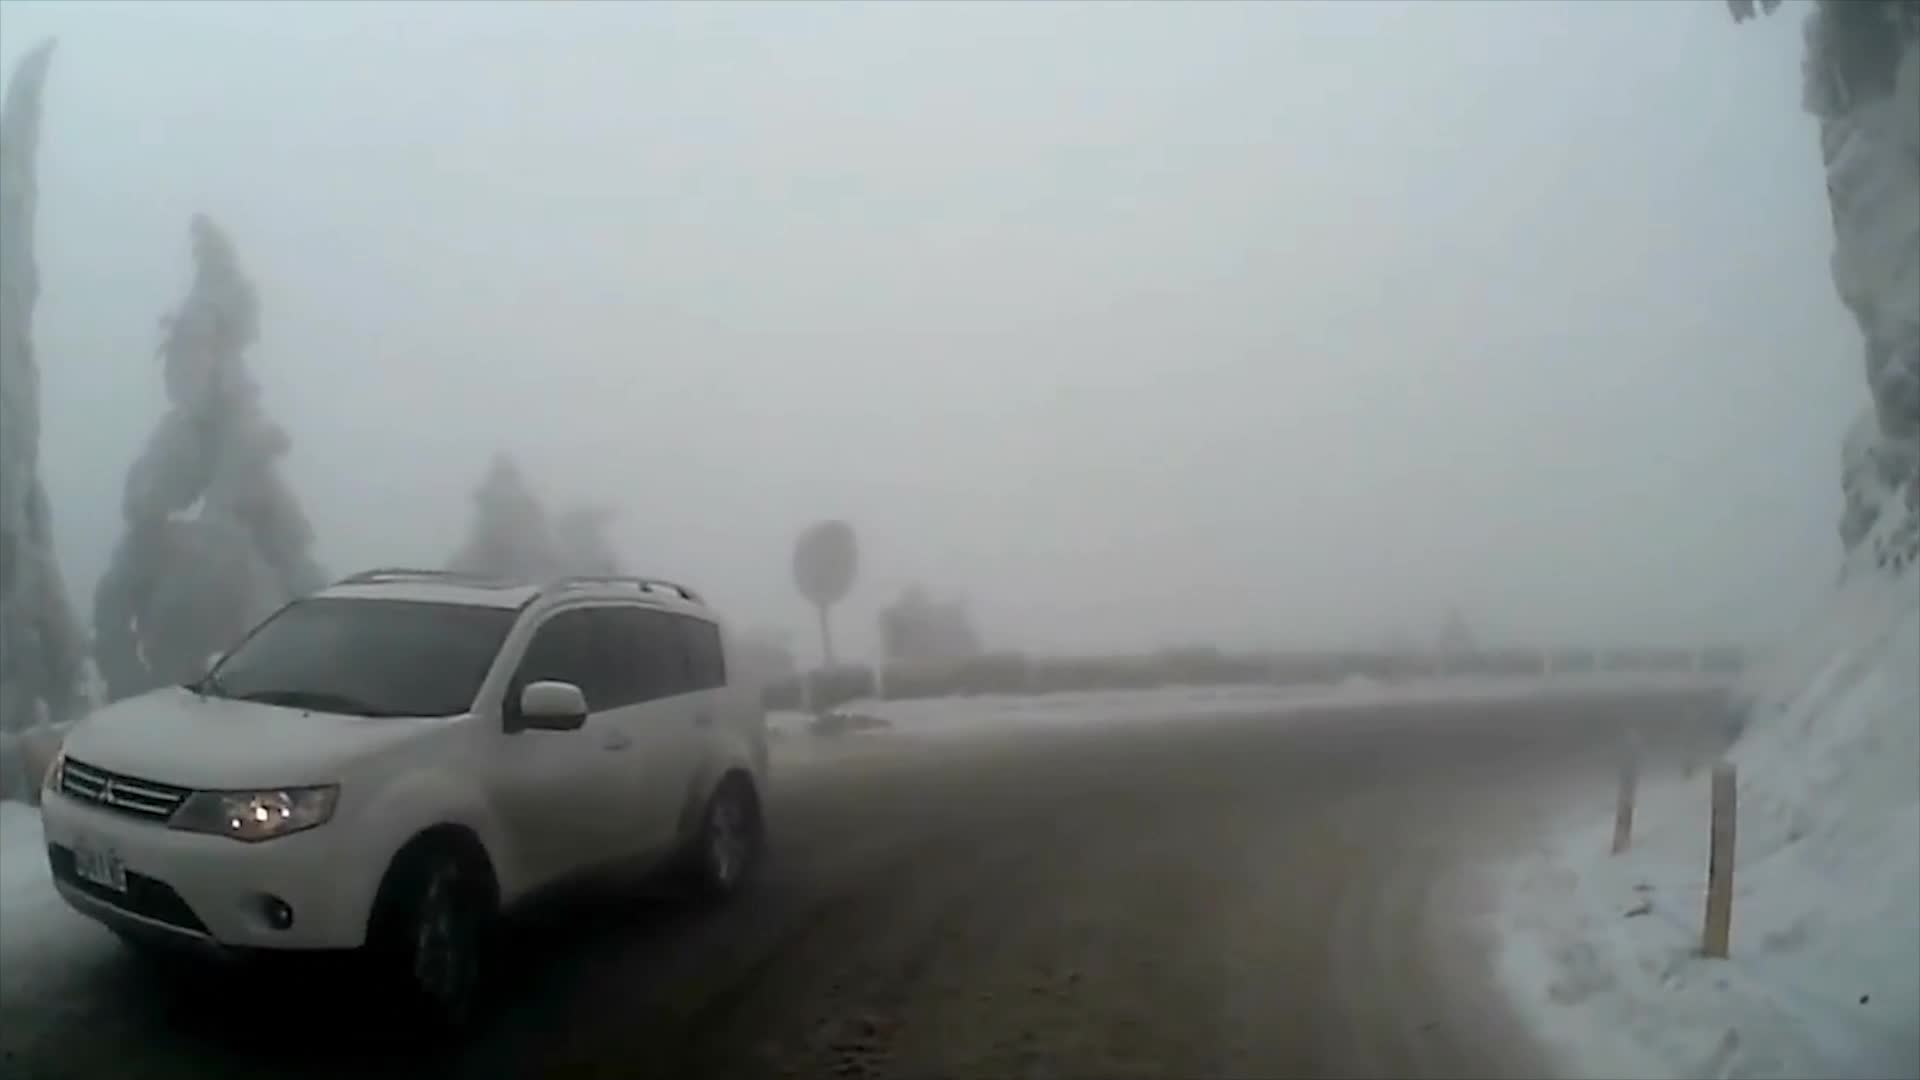vehicle: (37, 566, 767, 1027)
